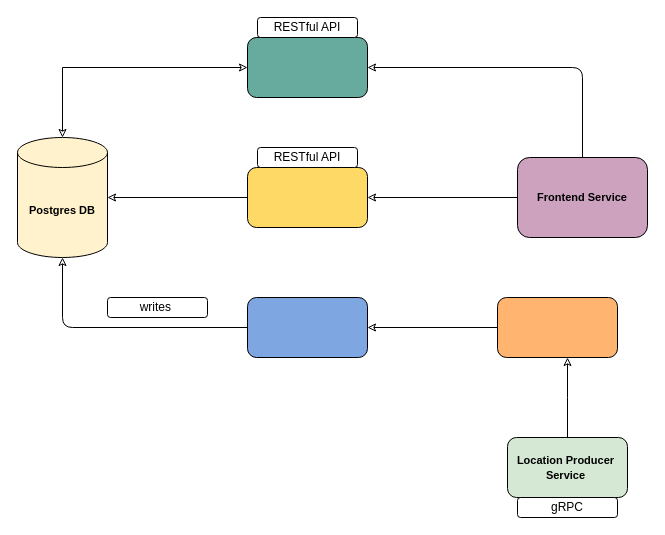
This 665x535 diagram has some shape labels left out. The shapes that lost their labels are listed below. From the top down, each one's box as (x1, y1, x2, y2) in pixels, then its label:
(246, 36, 368, 98): Person Service
(246, 166, 368, 228): Connection Service
(246, 296, 368, 358): Location Consumer Service
(496, 296, 618, 358): Kafka
